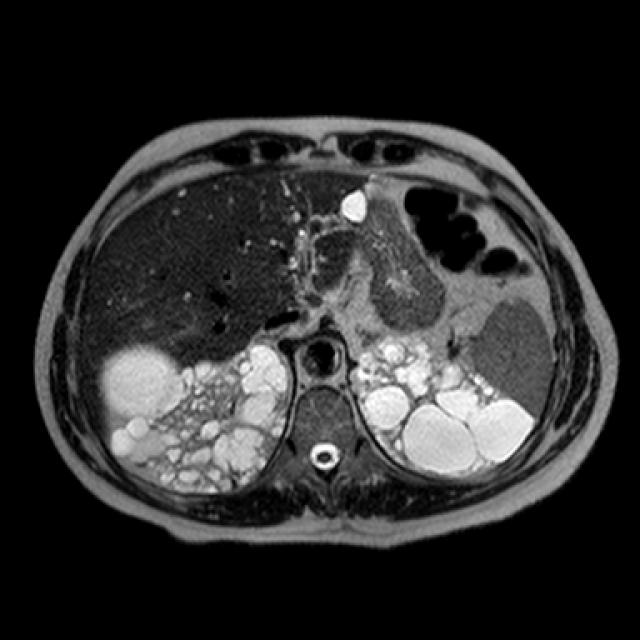sag: (97, 342, 292, 494)
sol: (351, 334, 535, 475)
